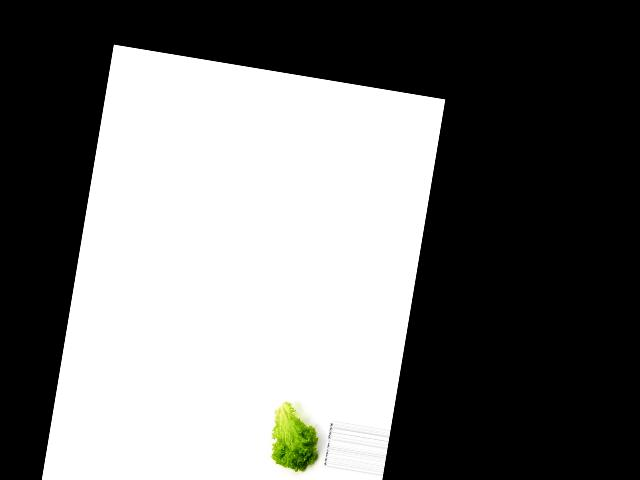lettuce: (263, 400, 325, 477)
